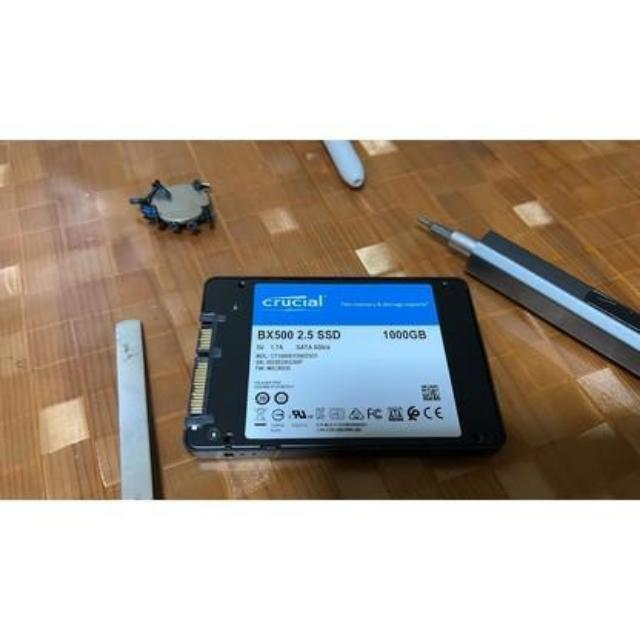DISK: (184, 266, 508, 464)
